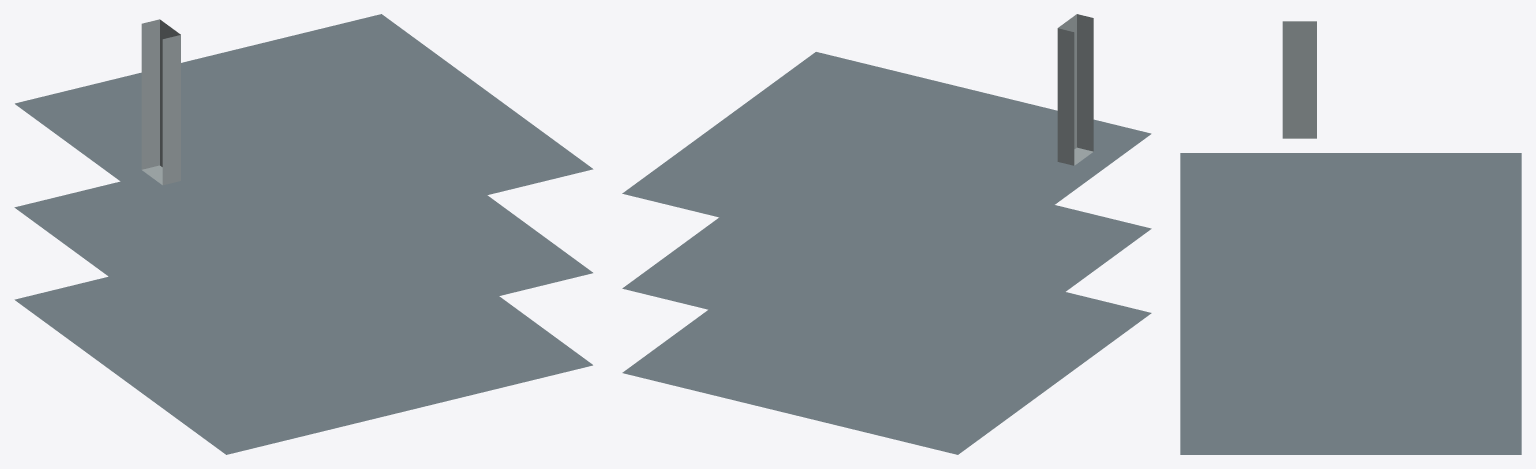
The model's file is cell_21.obj.
3 renders of one model, left to right at view 1: azimuth 30°, elevation 25°; view 2: azimuth 150°, elevation 25°; view 3: azimuth 270°, elevation 25°, orthographic. The views are drawn at different scales.
Size of the model in its own units: 1 by 0.96 by 1.
